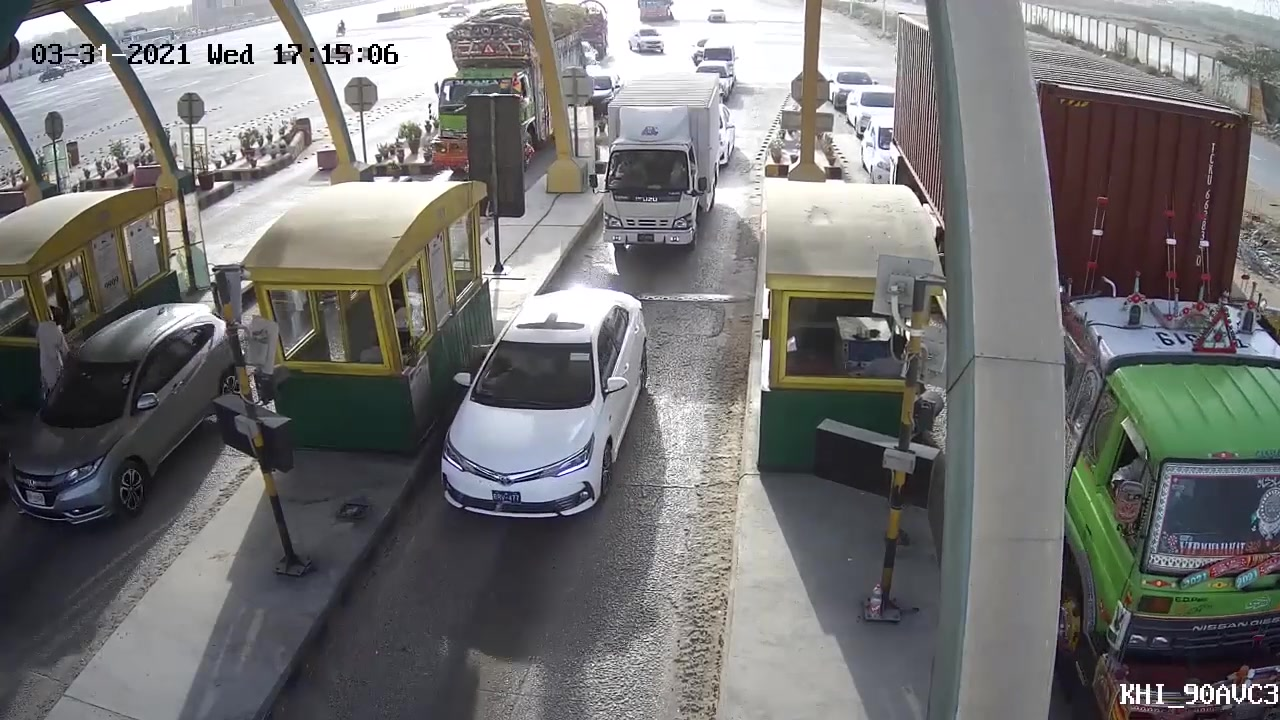F1: (430, 285, 651, 525)
F3: (601, 72, 722, 252)
